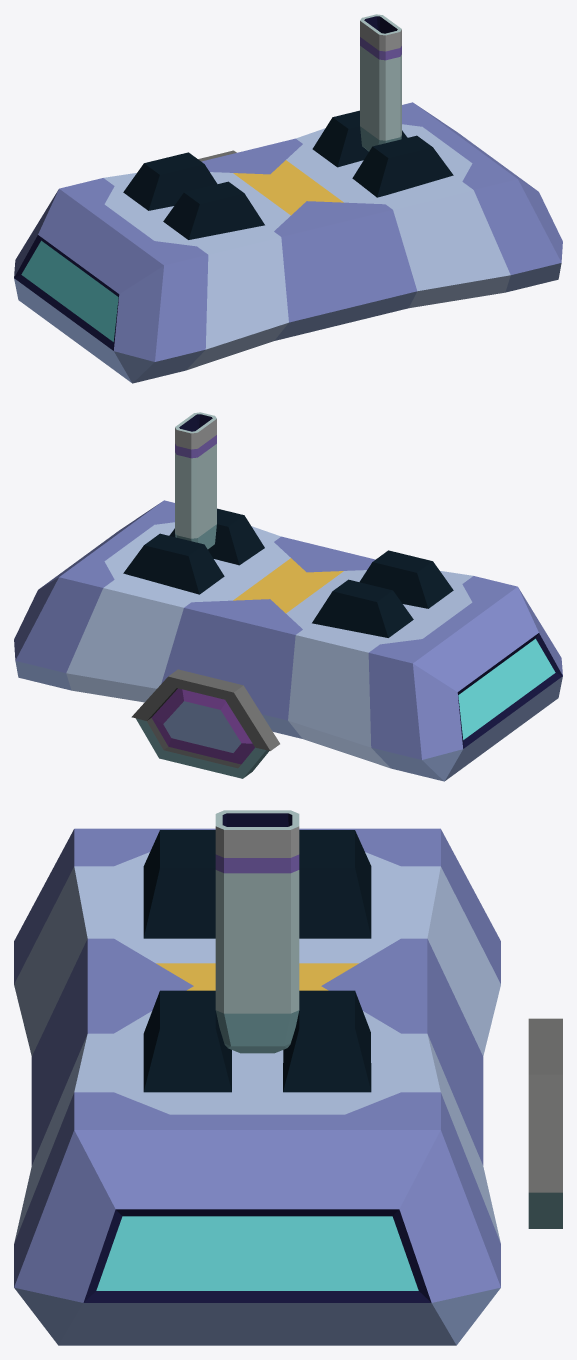
The model's file is tankRapidLaser.fbx.
The picture shows the model from 3 angles, top to bottom: view 1: azimuth 30°, elevation 25°; view 2: azimuth 150°, elevation 25°; view 3: azimuth 270°, elevation 25°; orthographic projection. The views are drawn at different scales.
Parts seen in each view (by area): view 1: TankRapidLaser, TankRapidLaserMounts, TankRapidLaserTurret; view 2: TankRapidLaser, TankRapidLaserMounts, TankRapidLaserWheel, TankRapidLaserTurret; view 3: TankRapidLaser, TankRapidLaserMounts, TankRapidLaserTurret, TankRapidLaserWheel.
Boxes of the visible parts, x1,y1,x2,y2 form: TankRapidLaser: (14,102,562,383); TankRapidLaserMounts: (123,110,453,239); TankRapidLaserTurret: (360,14,401,151); TankRapidLaser: (14,500,562,781); TankRapidLaserMounts: (123,508,453,637); TankRapidLaserWheel: (131,669,279,778); TankRapidLaserTurret: (175,412,216,549); TankRapidLaser: (14,828,500,1345); TankRapidLaserMounts: (143,830,371,1092); TankRapidLaserTurret: (215,810,299,1053); TankRapidLaserWheel: (528,1018,562,1228).
Size of the model in its own units: 106 by 58.2 by 64.04.
1 material, 1 textured.
